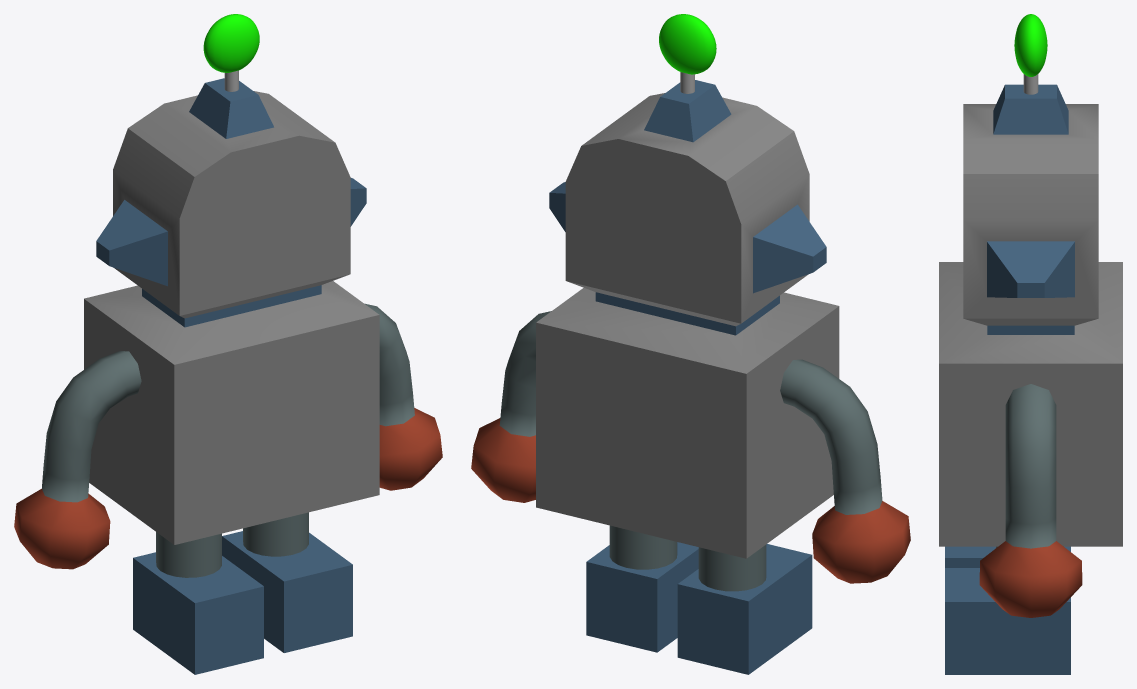
Rendered from robot.fbx.
The picture shows the model from 3 angles, left to right: view 1: azimuth 30°, elevation 25°; view 2: azimuth 150°, elevation 25°; view 3: azimuth 270°, elevation 25°; orthographic projection. The views are drawn at different scales.
Visible parts, largest first — view 1: polySurface8; view 2: polySurface8; view 3: polySurface8.
Part boxes in pixels (x1=…): polySurface8: x1=14, y1=14, x2=442, y2=674; polySurface8: x1=471, y1=14, x2=910, y2=674; polySurface8: x1=939, y1=14, x2=1122, y2=674.
Bounding box in the file's own units: 2.07 × 2.89 × 0.778.
